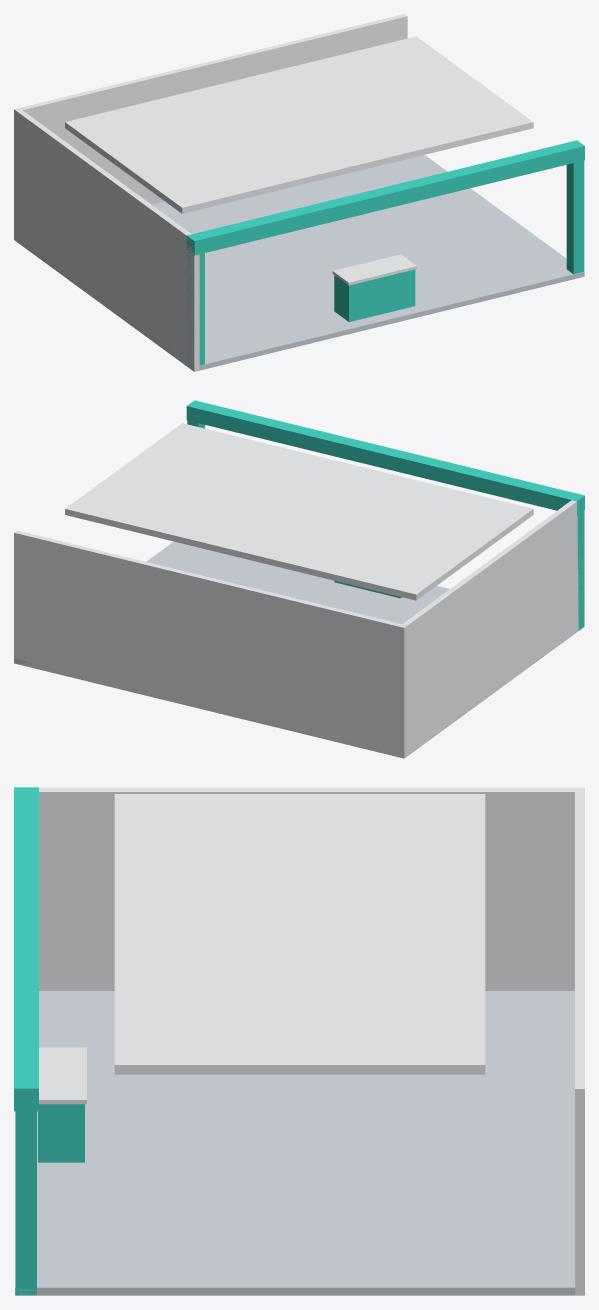
3 renders of one model, top to bottom at view 1: azimuth 30°, elevation 25°; view 2: azimuth 150°, elevation 25°; view 3: azimuth 270°, elevation 25°, orthographic. The views are drawn at different scales.
Parts seen in each view (by area): view 1: Exhibition Booth Concept; view 2: Exhibition Booth Concept; view 3: Exhibition Booth Concept.
Boxes of the visible parts, x1,y1,x2,y2 form: Exhibition Booth Concept: (14, 14, 584, 371); Exhibition Booth Concept: (14, 400, 584, 758); Exhibition Booth Concept: (14, 787, 584, 1295).
Size of the model in its own units: 10 by 3.34 by 8.01.
